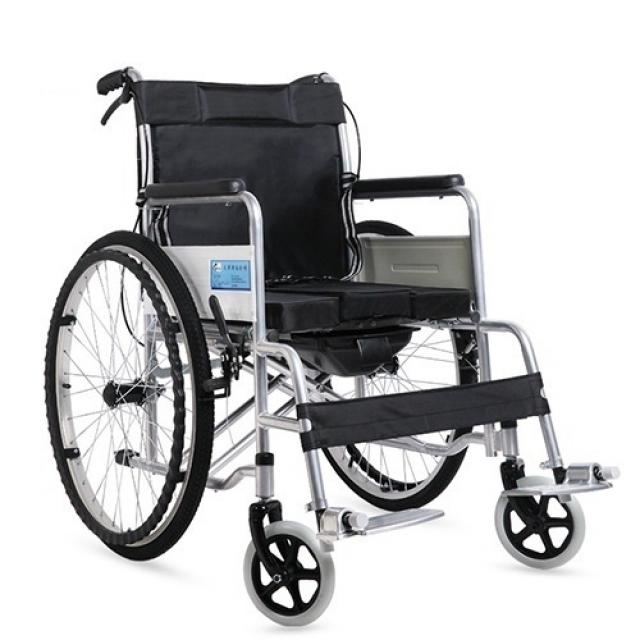wheelchair: (26, 36, 635, 631)
